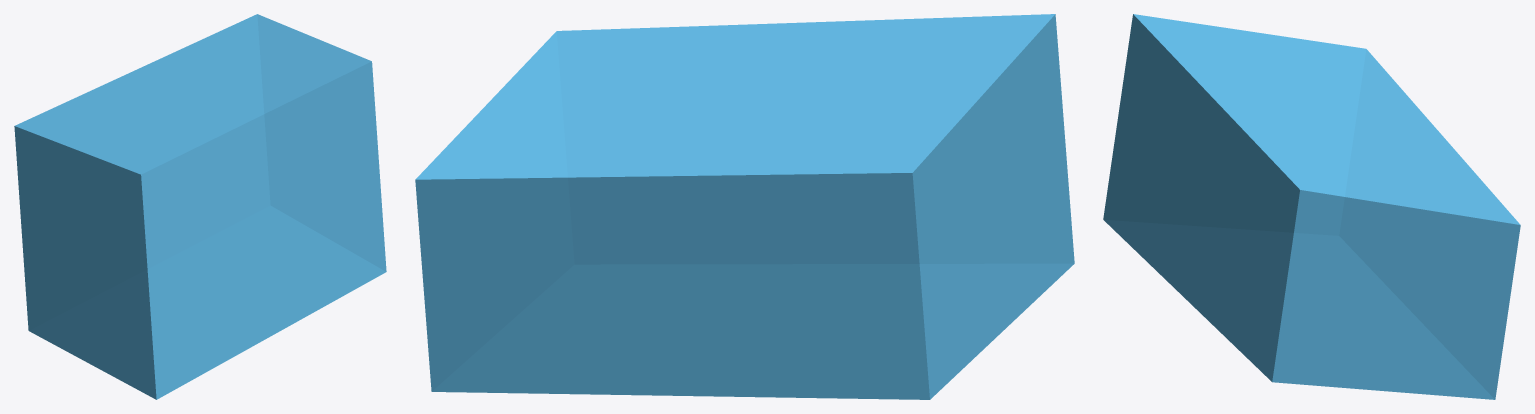
The model's file is Event_420094457_HErechit_2.fbx.
3 renders of one model, left to right at view 1: azimuth 30°, elevation 25°; view 2: azimuth 150°, elevation 25°; view 3: azimuth 270°, elevation 25°, orthographic. The views are drawn at different scales.
Parts seen in each view (by area): view 1: Model; view 2: Model; view 3: Model.
Part boxes in pixels (box(x1,y1,x2,y2)): Model: box(14, 14, 386, 399); Model: box(415, 14, 1074, 399); Model: box(1103, 14, 1520, 399).
Bounding box in the file's own units: 0.6995 × 0.5093 × 0.814.
